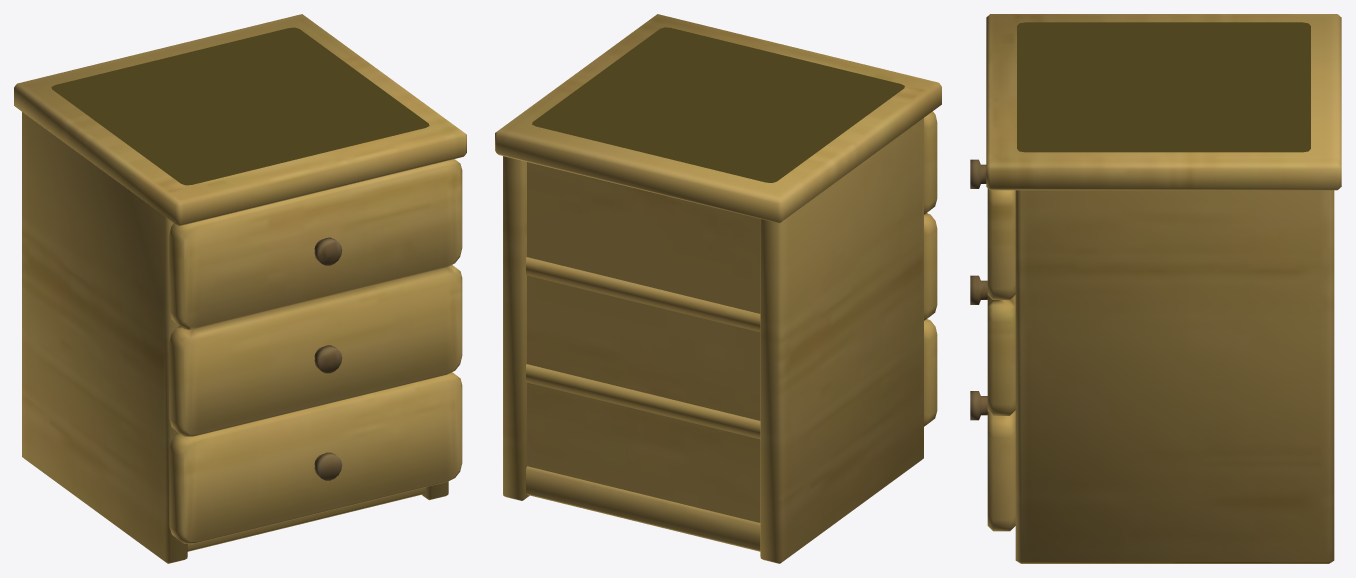
3 renders of one model, left to right at view 1: azimuth 30°, elevation 25°; view 2: azimuth 150°, elevation 25°; view 3: azimuth 270°, elevation 25°, orthographic. The views are drawn at different scales.
Size of the model in its own units: 7.47 by 9.18 by 7.66.
Materials: 2 (2 with a texture image).
